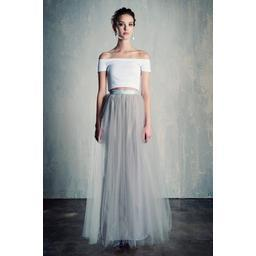Tshirt: (96, 58, 152, 90)
skirt: (84, 90, 172, 246)
